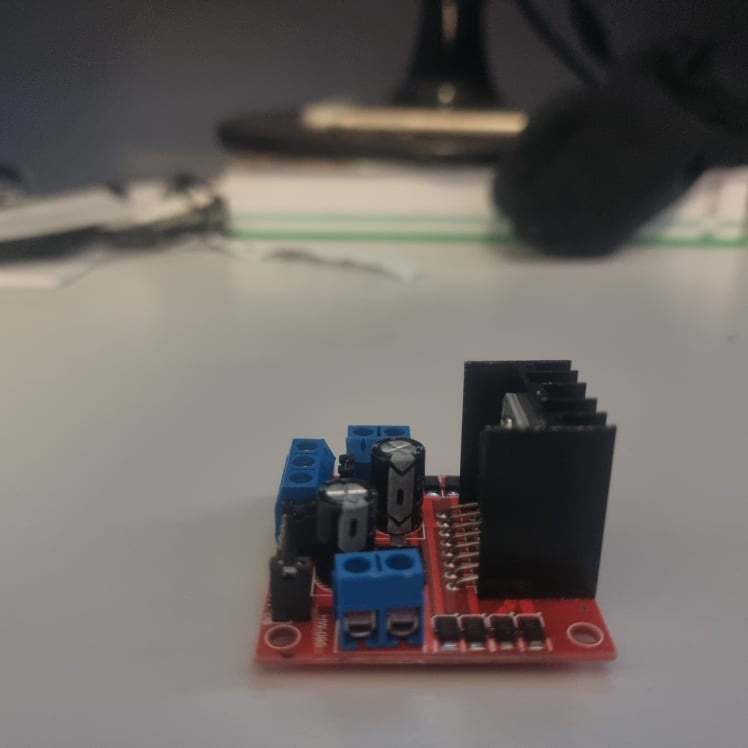MOTOR: (249, 357, 623, 668)
